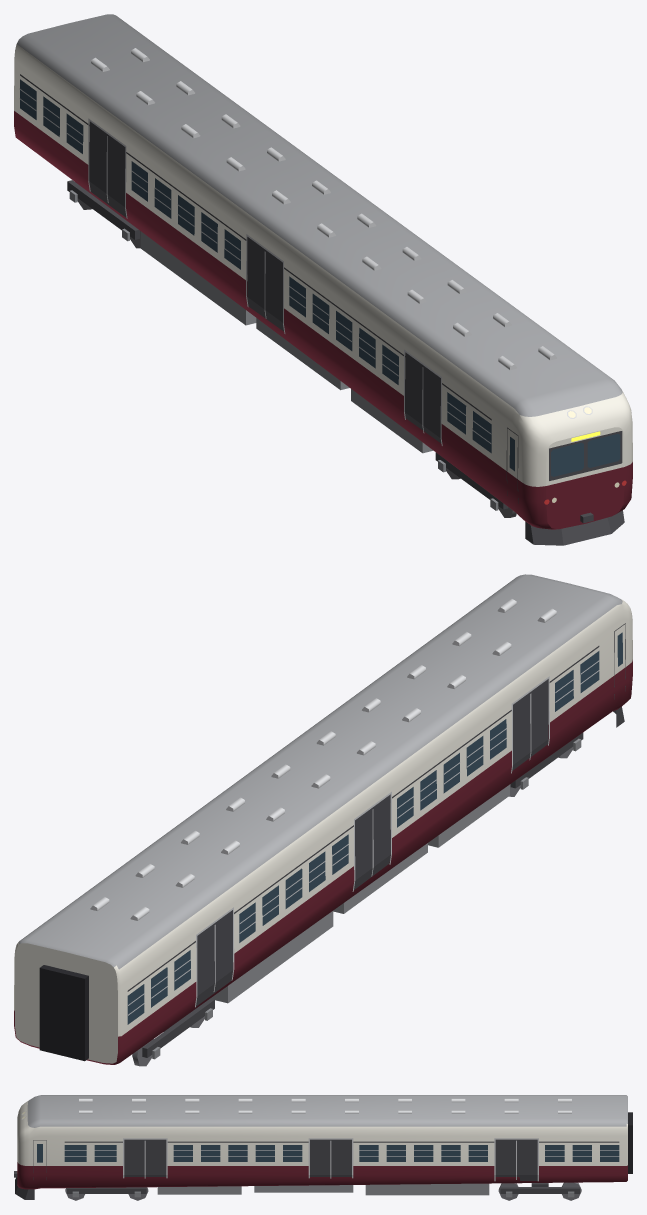
3 views of the same model, one above another, from view 1: azimuth 30°, elevation 25°; view 2: azimuth 150°, elevation 25°; view 3: azimuth 270°, elevation 25° (orthographic). The views are drawn at different scales.
Visible parts, largest first — view 1: 21_4; view 2: 21_4; view 3: 21_4.
Boxes of the visible parts, x1,y1,x2,y2 form: 21_4: [14, 14, 632, 545]; 21_4: [14, 574, 632, 1066]; 21_4: [14, 1095, 632, 1200].
Bounding box in the file's own units: 2.97 × 3.9 × 25.
